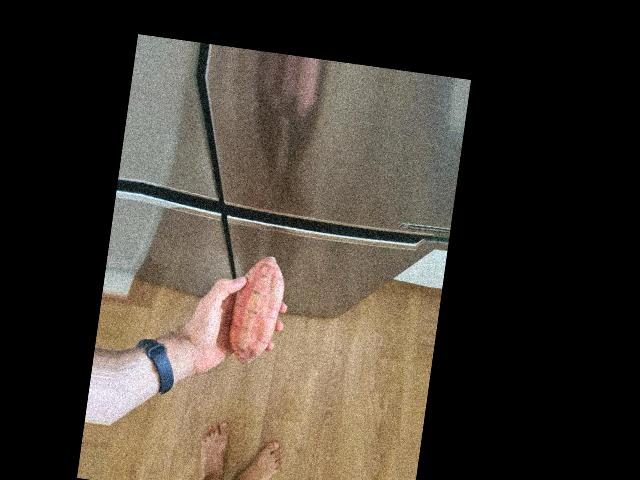sweet_potato: (222, 253, 288, 366)
